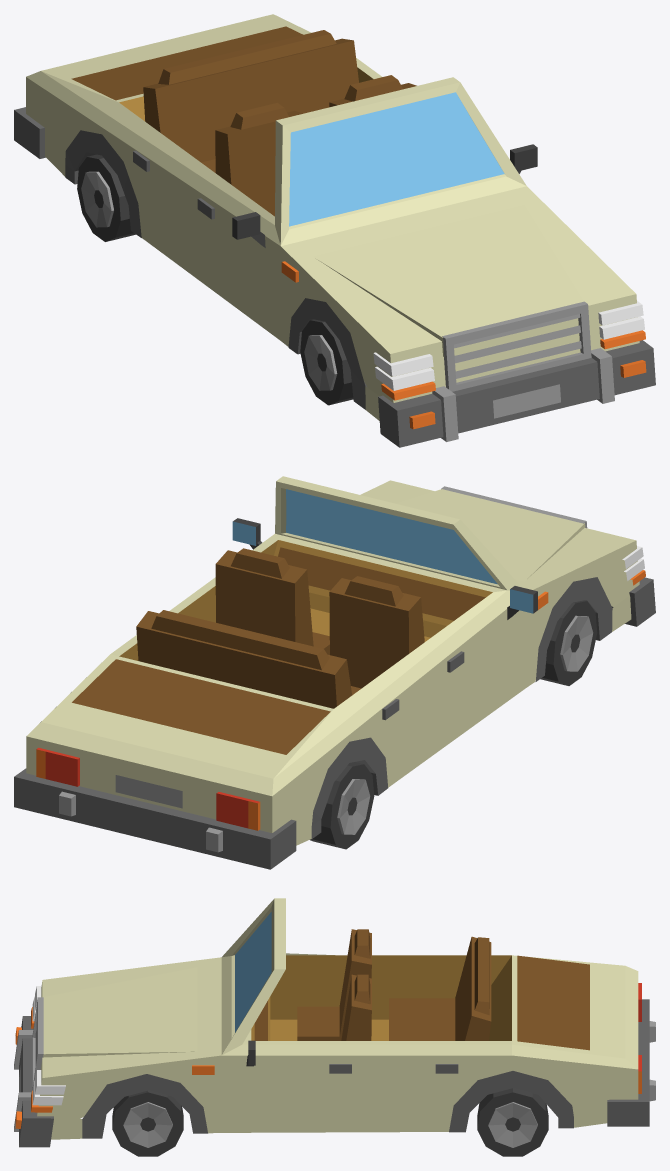
Rendered from Car_2.fbx.
3 views of the same model, one above another, from view 1: azimuth 30°, elevation 25°; view 2: azimuth 150°, elevation 25°; view 3: azimuth 270°, elevation 25° (orthographic). The views are drawn at different scales.
Visible parts, largest first — view 1: Car_2; view 2: Car_2; view 3: Car_2.
Boxes of the visible parts, bbox=[...] form: Car_2: bbox=[14, 14, 655, 447]; Car_2: bbox=[14, 476, 655, 869]; Car_2: bbox=[14, 898, 655, 1156].
Size of the model in its own units: 1.03 by 0.6912 by 2.34.
